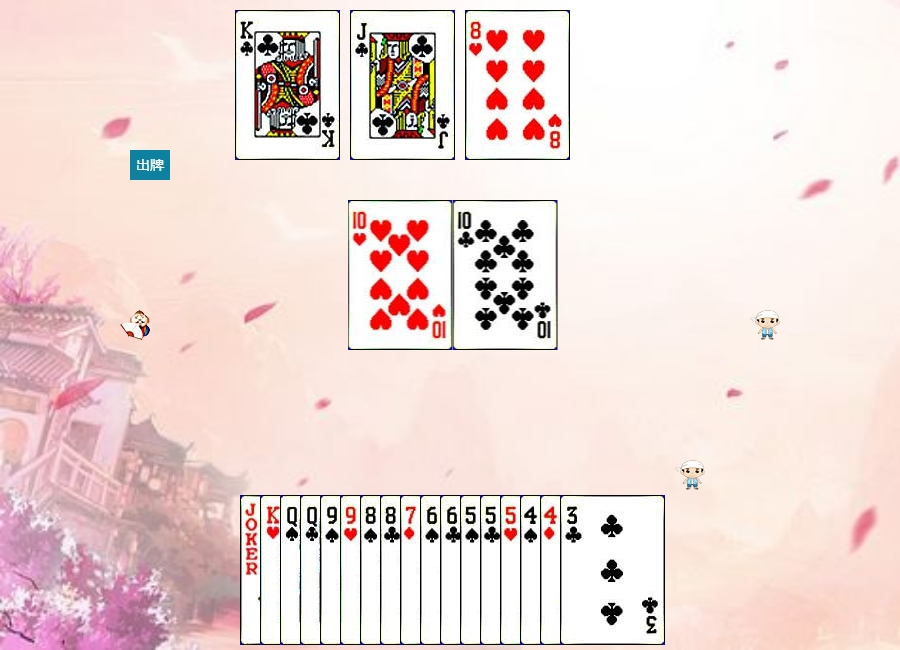10~2: (453, 200, 558, 350)
10~3: (348, 200, 453, 350)
11~2: (350, 10, 455, 160)
12~2: (300, 495, 405, 645)
12~4: (280, 495, 385, 645)
13~2: (235, 10, 340, 160)
13~3: (260, 495, 365, 645)
18~4: (240, 495, 345, 645)
3~2: (560, 495, 665, 645)
4~1: (540, 495, 645, 645)
4~4: (520, 495, 625, 645)
5~2: (480, 495, 585, 645)
5~3: (500, 495, 605, 645)
5~4: (460, 495, 565, 645)
6~2: (440, 495, 545, 645)
6~4: (420, 495, 525, 645)
7~1: (400, 495, 505, 645)
8~2: (380, 495, 485, 645)
8~3: (465, 10, 570, 160)
8~4: (360, 495, 465, 645)
9~3: (340, 495, 445, 645)
9~4: (320, 495, 425, 645)
